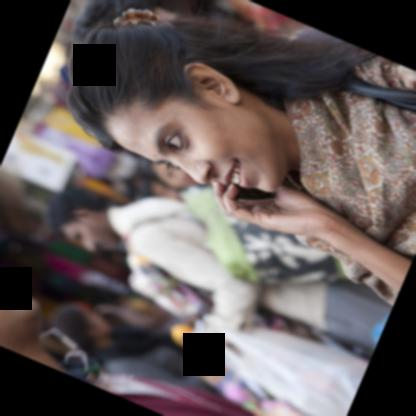handbag: (116, 182, 353, 287), (187, 317, 369, 416), (352, 82, 416, 111)
